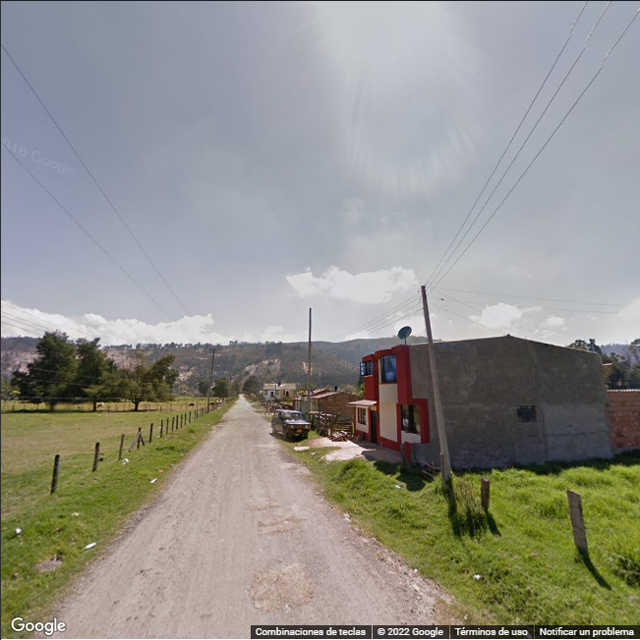D40: (247, 559, 318, 612), (257, 511, 305, 541)
